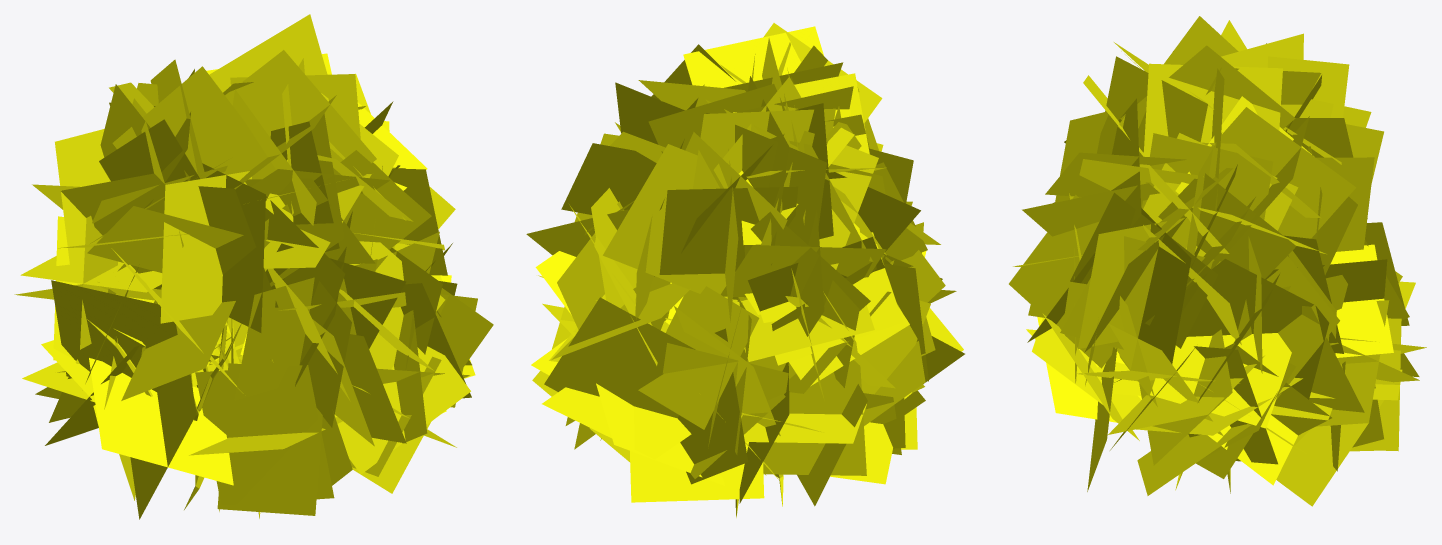
File: bush_c.glb
The picture shows the model from 3 angles, left to right: view 1: azimuth 30°, elevation 25°; view 2: azimuth 150°, elevation 25°; view 3: azimuth 270°, elevation 25°; orthographic projection. The views are drawn at different scales.
Parts seen in each view (by area): view 1: Bushes_01_LOD0, SM_Bushes_01_LOD0; view 2: Bushes_01_LOD0; view 3: Bushes_01_LOD0.
Boxes of the visible parts, <box> form: Bushes_01_LOD0: <box>14,14,493,519</box>; SM_Bushes_01_LOD0: <box>87,319,273,518</box>; Bushes_01_LOD0: <box>526,23,964,506</box>; Bushes_01_LOD0: <box>1009,16,1426,506</box>.
Size of the model in its own units: 1.41 by 1.64 by 1.37.
